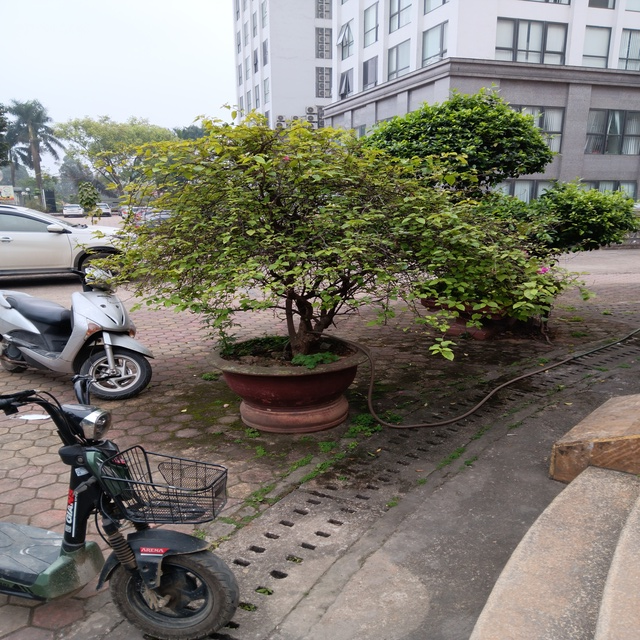caycanh: (99, 105, 469, 436), (378, 83, 640, 353)
